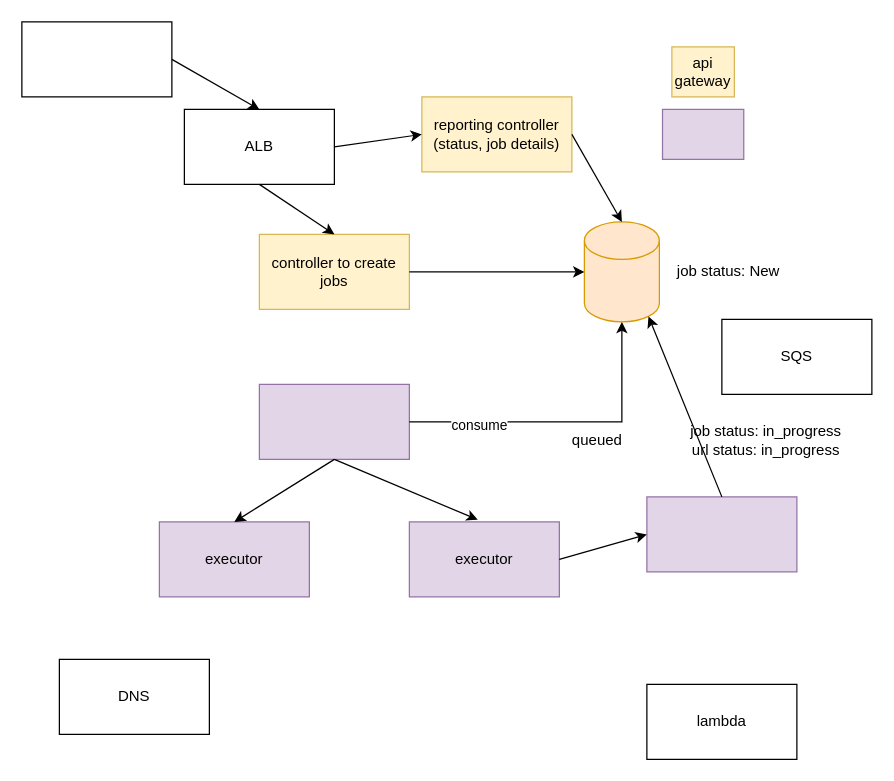
The diagram is 894 pixels wide and 781 high, and some of its shapes have lost their labels. The shapes that lost their labels are listed below. From the top down, each one's centre as x and y in pixels, then its label:
[96,59]: client
[702,133]: EKS/ECS
[621,271]: DB
[333,421]: data consumer (scheduled task)
[721,534]: status controller
